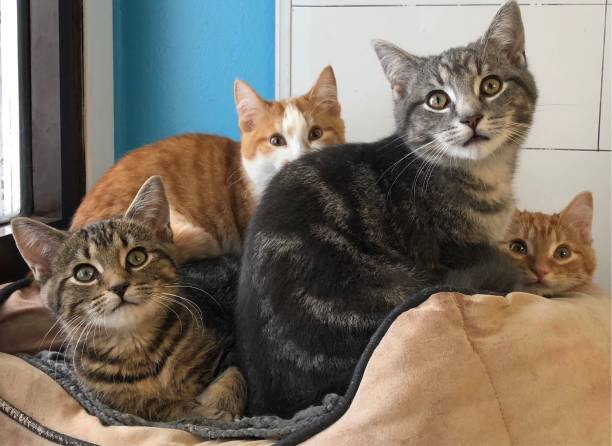cat: (235, 1, 539, 416), (1, 171, 252, 428), (59, 60, 347, 264), (498, 187, 598, 298)
